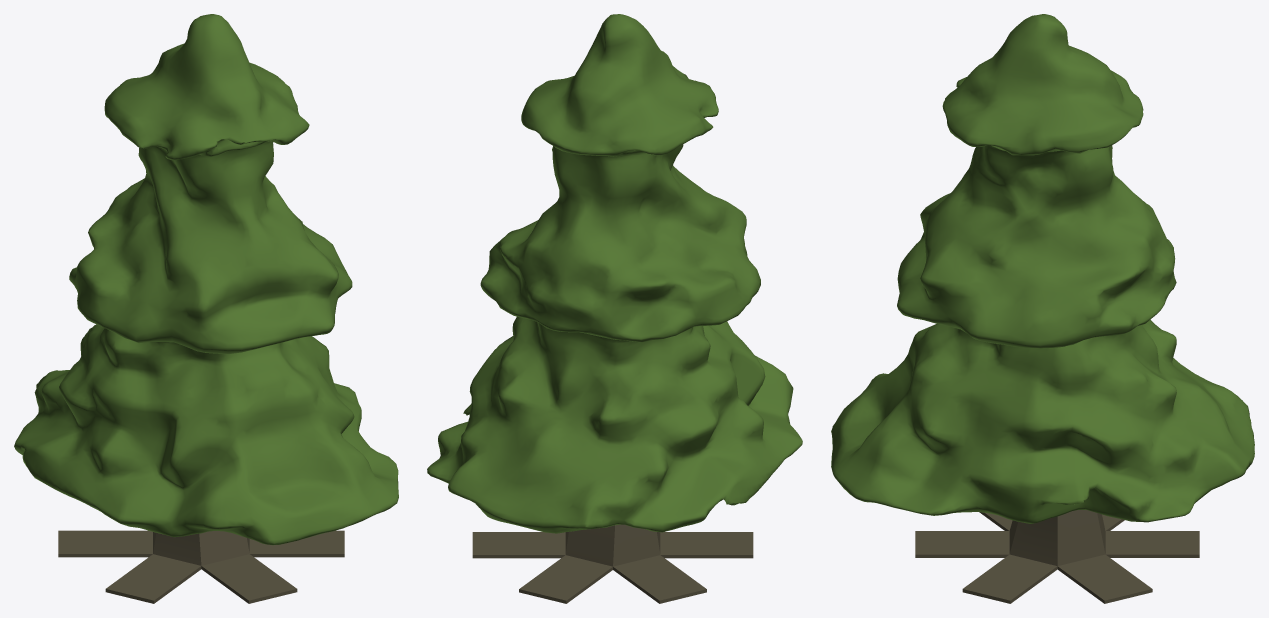
The model's file is pine tree.fbx.
3 renders of one model, left to right at view 1: azimuth 30°, elevation 25°; view 2: azimuth 150°, elevation 25°; view 3: azimuth 270°, elevation 25°, orthographic. The views are drawn at different scales.
Visible parts, largest first — view 1: pCylinder1, e; view 2: pCylinder1, e; view 3: pCylinder1, e.
Part boxes in pixels (bbox=[...]): pCylinder1: bbox=[14, 14, 398, 545]; e: bbox=[58, 530, 344, 603]; pCylinder1: bbox=[427, 14, 802, 533]; e: bbox=[472, 524, 753, 603]; pCylinder1: bbox=[831, 14, 1254, 523]; e: bbox=[915, 510, 1199, 603].
Size of the model in its own units: 2.43 by 4.24 by 3.07.
